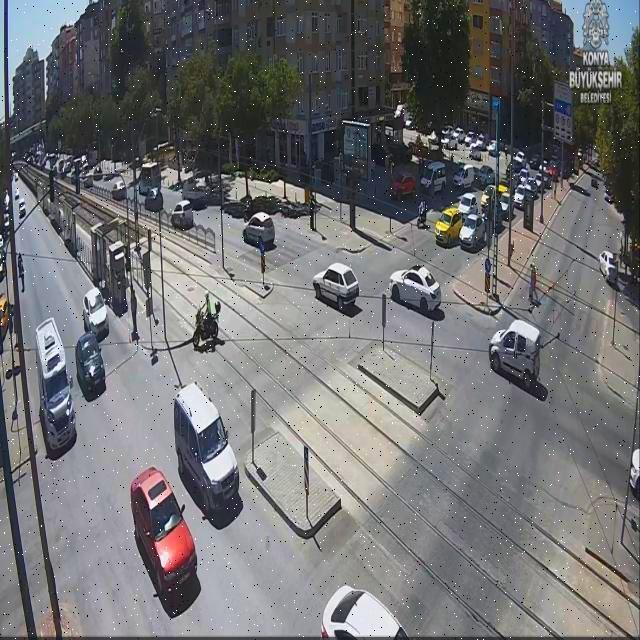Car: (175, 383, 240, 516), (132, 468, 196, 602), (320, 586, 409, 640), (387, 265, 440, 314), (312, 262, 360, 310), (75, 333, 105, 400), (82, 288, 108, 337), (435, 207, 465, 246), (243, 212, 275, 248), (459, 214, 487, 252), (420, 162, 447, 194), (388, 174, 416, 200), (171, 200, 194, 229), (599, 250, 619, 283), (513, 180, 538, 206), (628, 451, 640, 505), (456, 192, 480, 217), (452, 164, 476, 189), (494, 192, 515, 220), (0, 294, 12, 338), (144, 187, 164, 211), (474, 165, 496, 186), (138, 179, 156, 196), (111, 181, 127, 200), (531, 174, 547, 192), (464, 132, 480, 147), (498, 178, 512, 194), (470, 138, 485, 152), (428, 136, 440, 152), (469, 146, 482, 160), (448, 126, 461, 140), (455, 129, 467, 143), (486, 140, 498, 154), (441, 126, 455, 138), (513, 151, 525, 165), (102, 172, 120, 181), (18, 198, 26, 218), (518, 166, 530, 179), (604, 188, 615, 202), (440, 134, 452, 146), (92, 167, 103, 180), (519, 174, 529, 184)
Truck: (34, 319, 79, 454)
